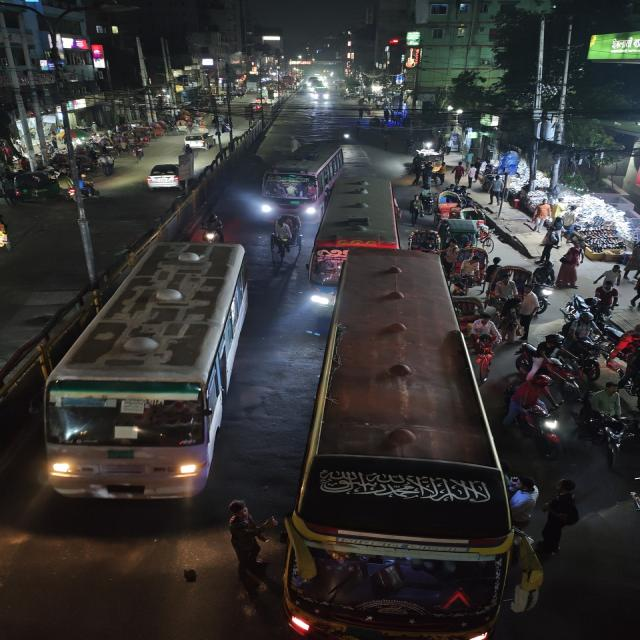bus: (298, 250, 520, 640), (45, 236, 252, 508), (307, 173, 402, 294), (258, 140, 345, 220)
car: (145, 161, 189, 193), (184, 132, 209, 151)
cng: (13, 168, 57, 202), (0, 209, 15, 254)
motorcycle: (502, 374, 564, 450), (576, 399, 636, 459), (55, 170, 96, 202), (198, 211, 227, 243), (339, 128, 354, 143)
pedestrian: (538, 479, 580, 557), (508, 471, 542, 515), (538, 221, 560, 259)
rickshaw: (457, 296, 503, 352), (268, 212, 304, 265), (450, 246, 490, 286), (432, 188, 466, 219), (407, 228, 441, 255), (0, 210, 14, 254)
